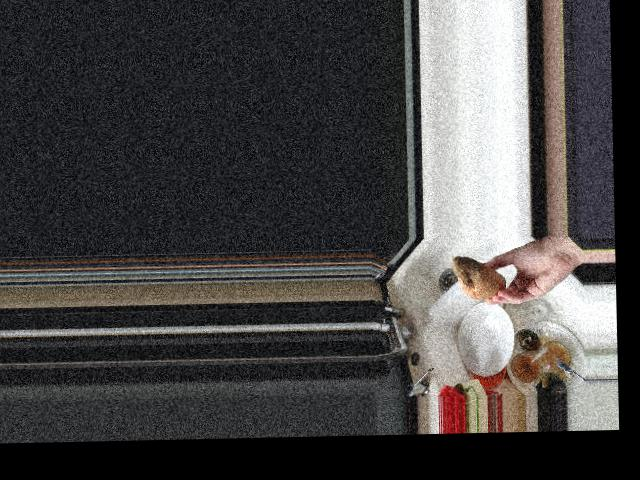sweet_potato: (451, 251, 505, 302)
